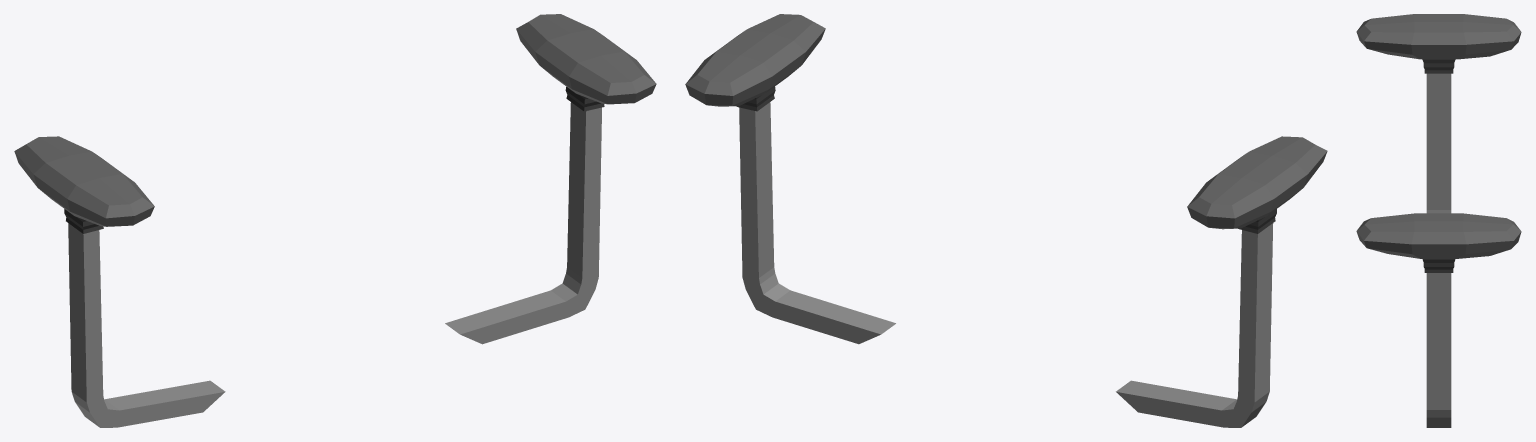
Rendered from Chair Body Ac.fbx.
3 views of the same model, side by side, from view 1: azimuth 30°, elevation 25°; view 2: azimuth 150°, elevation 25°; view 3: azimuth 270°, elevation 25° (orthographic). The views are drawn at different scales.
Parts seen in each view (by area): view 1: Chair Body Ac; view 2: Chair Body Ac; view 3: Chair Body Ac.
Part boxes in pixels (box(x1,y1,x2,y2)): Chair Body Ac: box(14, 14, 656, 427); Chair Body Ac: box(685, 14, 1327, 427); Chair Body Ac: box(1356, 14, 1521, 427).
Bounding box in the file's own units: 67.15 × 30.09 × 20.7.
